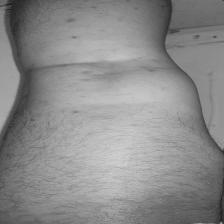Psoriasis vulgaris: (22, 117, 36, 122), (68, 110, 82, 114)
